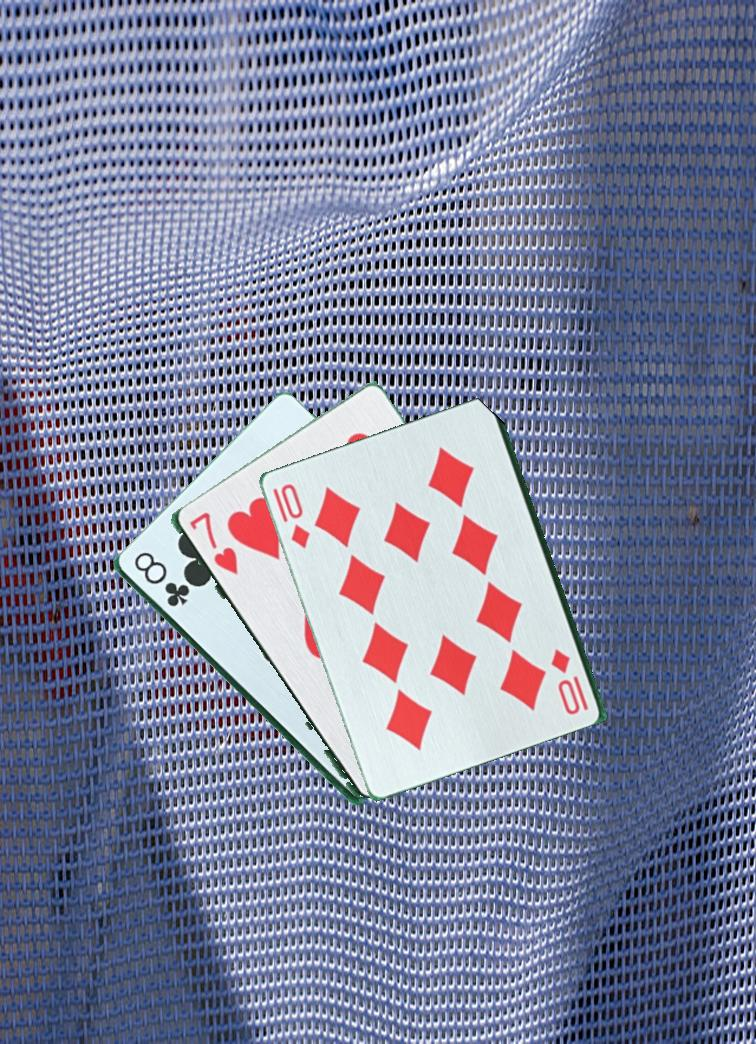7h: (184, 508, 241, 578)
8c: (129, 548, 191, 612)
td: (547, 637, 591, 713), (276, 479, 313, 551)
